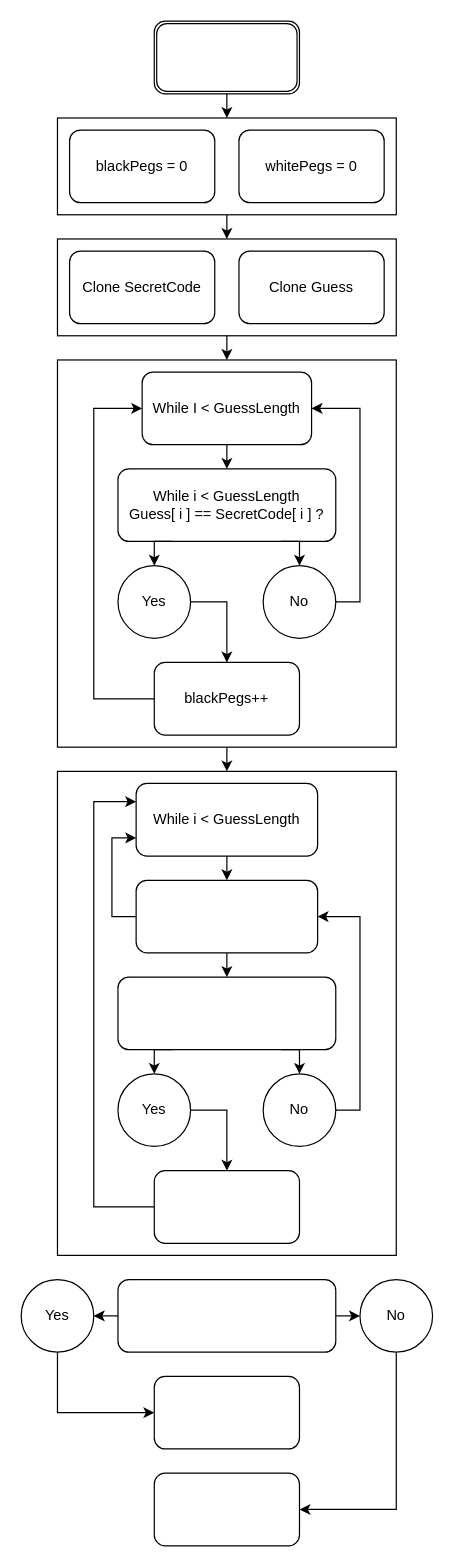
This 454x1567 diagram has some shape labels left out. The shapes that lost their labels are listed below. From the top down, each one's centre as x and y in pixels, then its label:
the point at 226,57: generateResult()
the point at 226,916: While j < CodeLength
the point at 226,1013: Guess[ i ] == SecretCode[ j ] ?
the point at 226,1206: whitePegs++
the point at 226,1315: blackPegs == pegNumber?
the point at 226,1412: return true
the point at 226,1509: return false
